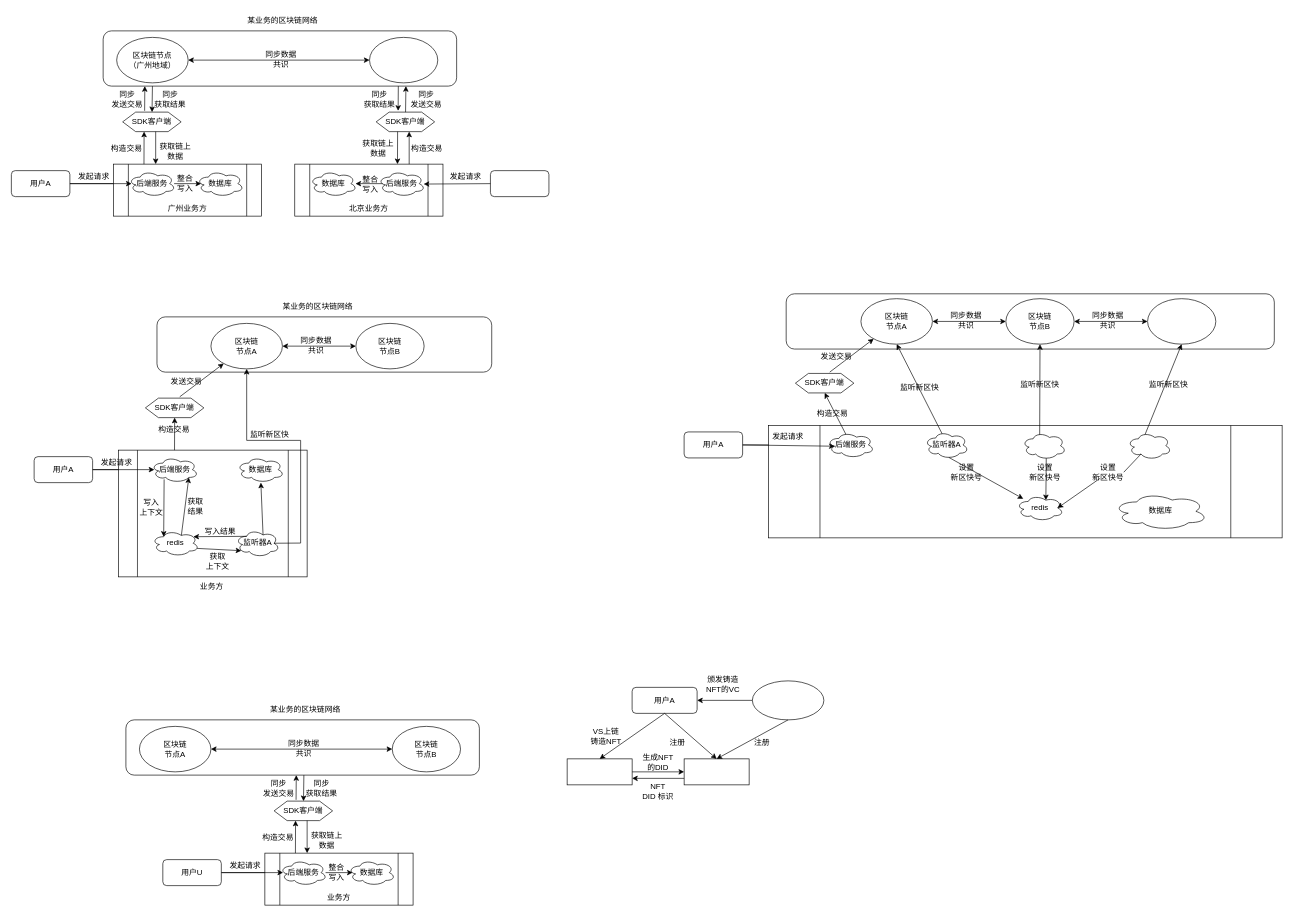
Some shapes in this 1294 by 916 pixel diagram are drawn without their labels. The shapes that lost their labels are listed below. From the top down, each one's centre as x and y in pixels, then its label:
(403,60): 区块链节点 （北京地域）
(519,183): 用户B
(1181,321): 区块链 节点C
(1043,445): 监听器B
(1149,445): 监听器C
(788,700): 发行机构
(599,771): NFT合约
(716,771): DID合约
